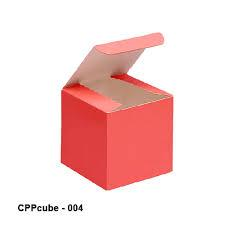cube: (62, 73, 174, 189)
